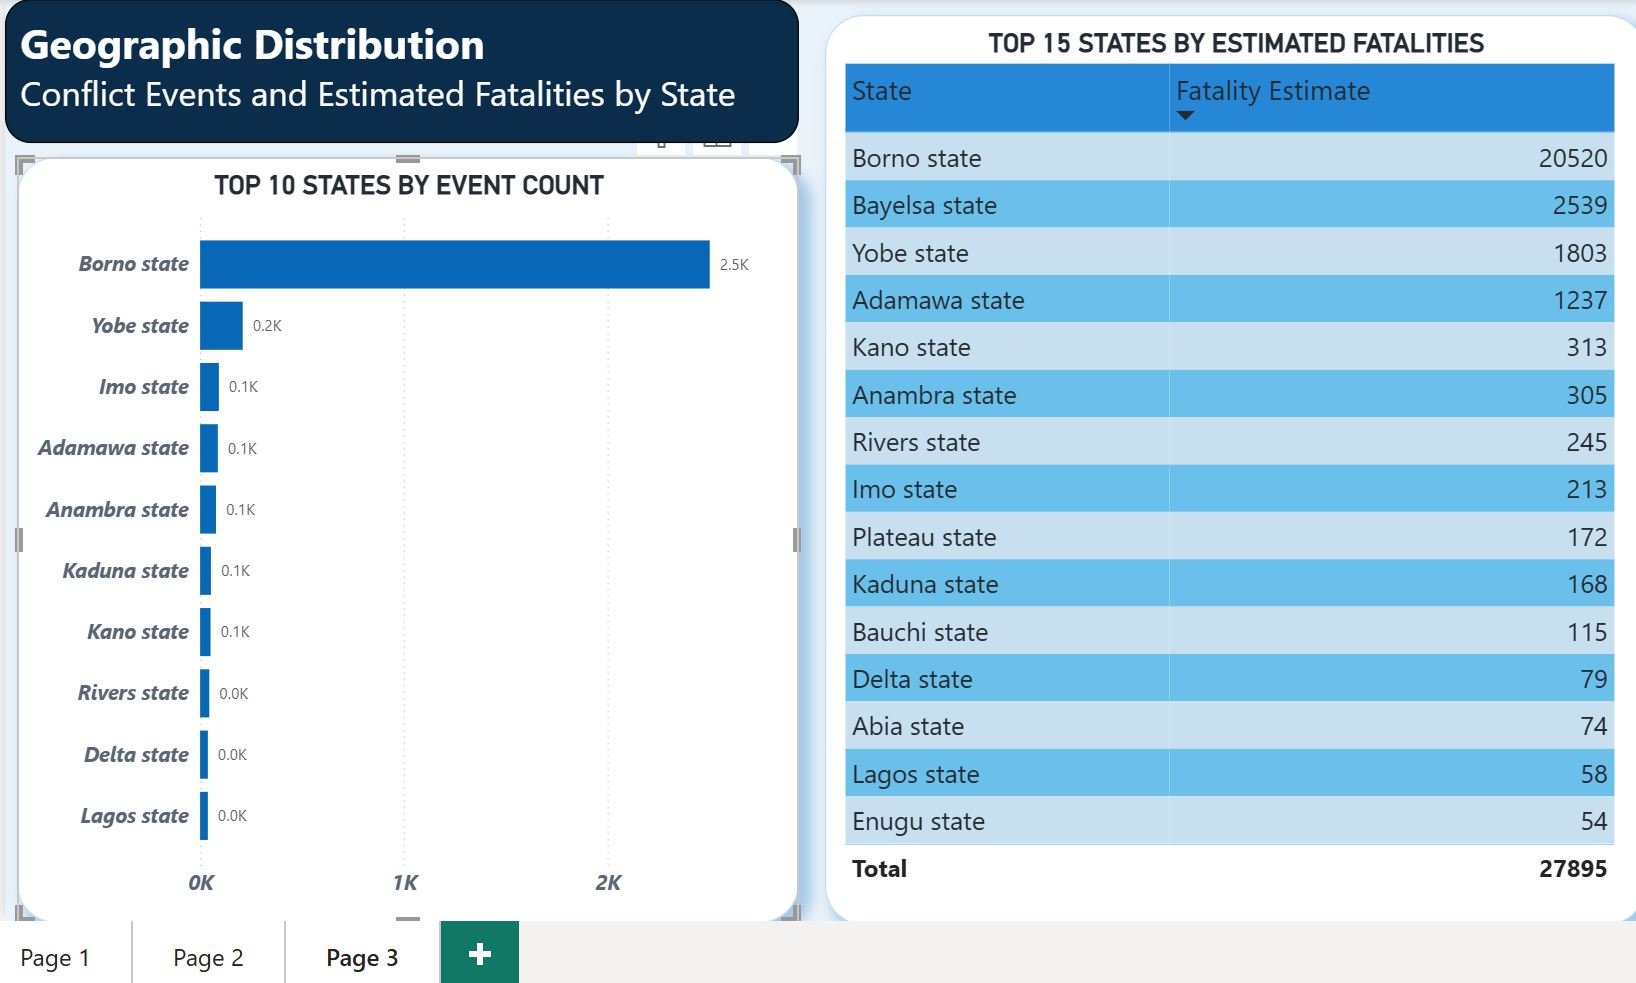

The dashboard page shown, as its layout file describes it:
{"tool":"powerbi","page":{"name":"Page 3","canvas":[1280,720],"ordinal":2},"visuals":[{"type":"clusteredBarChart","title":"TOP 10 STATES BY EVENT COUNT ","fields":{"Category":["nigeria_conflict_database locations.admin_level_1"],"Y":["CountNonNull(nigeria_conflict_database nigeria_conflict_events.conflict_id)"]},"box":[9.4,123.4,610.7,598.2],"z":0},{"type":"tableEx","title":"TOP 15 STATES BY ESTIMATED FATALITIES","fields":{"Values":["nigeria_conflict_database locations.admin_level_1","Sum(nigeria_conflict_database nigeria_conflict_events.best_fatality_estimate)"]},"box":[640.8,12.7,640.8,710.4],"z":1000},{"type":"textbox","box":[0,0,620,112.5],"z":3000}]}

Visuals, with their boxes on the page's 1280x720 design canvas (x1, y1, x2, y2). These are canvas units, not pixel positions in the 1636x983 screenshot, which may show the page scaled, cropped or inside an application window:
"TOP 10 STATES BY EVENT COUNT " clusteredBarChart: 9 123 620 722
"TOP 15 STATES BY ESTIMATED FATALITIES" tableEx: 641 13 1282 723
textbox: 0 0 620 112
